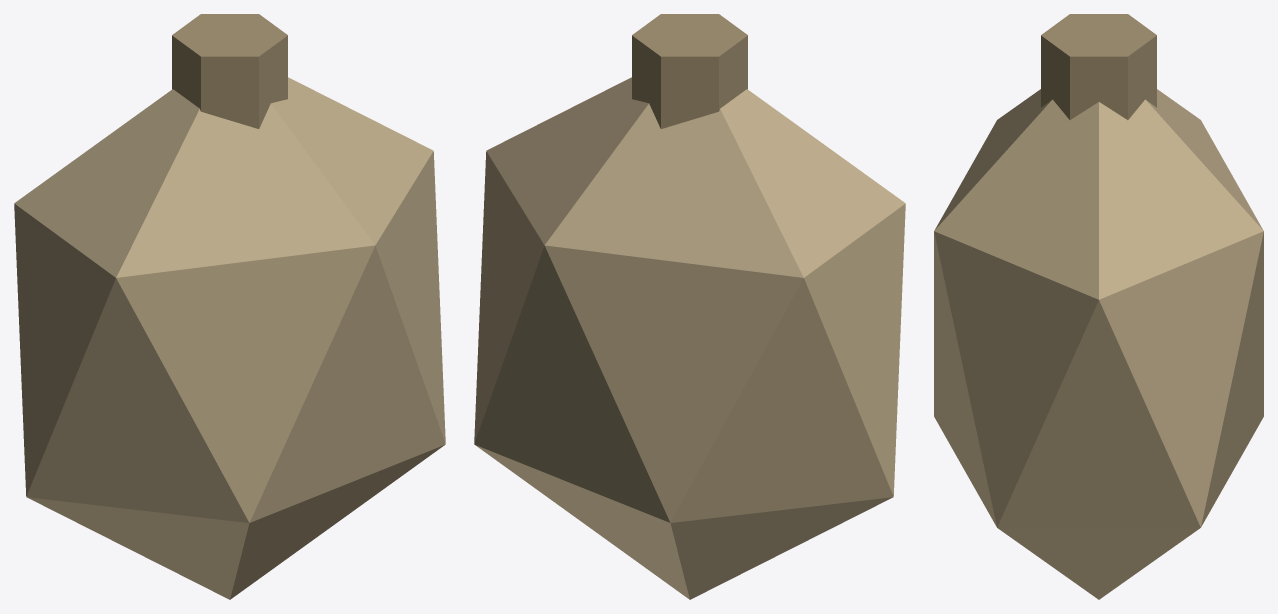
The model's file is sack.glb.
The picture shows the model from 3 angles, left to right: view 1: azimuth 30°, elevation 25°; view 2: azimuth 150°, elevation 25°; view 3: azimuth 270°, elevation 25°; orthographic projection.
Parts seen in each view (by area): view 1: canvas sack, tied neck; view 2: canvas sack, tied neck; view 3: canvas sack, tied neck.
Boxes of the visible parts, x1,y1,x2,y2 form: canvas sack: (14,77,445,599); tied neck: (172,14,287,128); canvas sack: (474,77,905,599); tied neck: (632,14,747,128); canvas sack: (934,89,1263,599); tied neck: (1041,14,1156,119).
Bounding box in the file's own units: 0.3399 × 0.45 × 0.2382.
